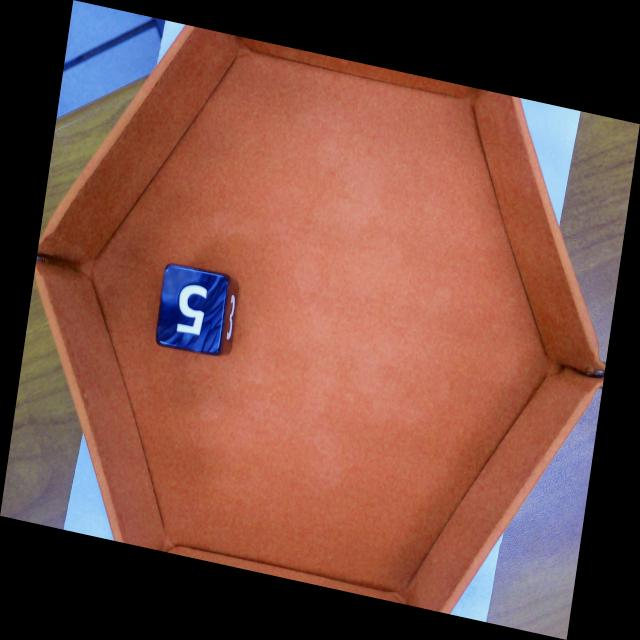dice: (157, 266, 227, 352)
